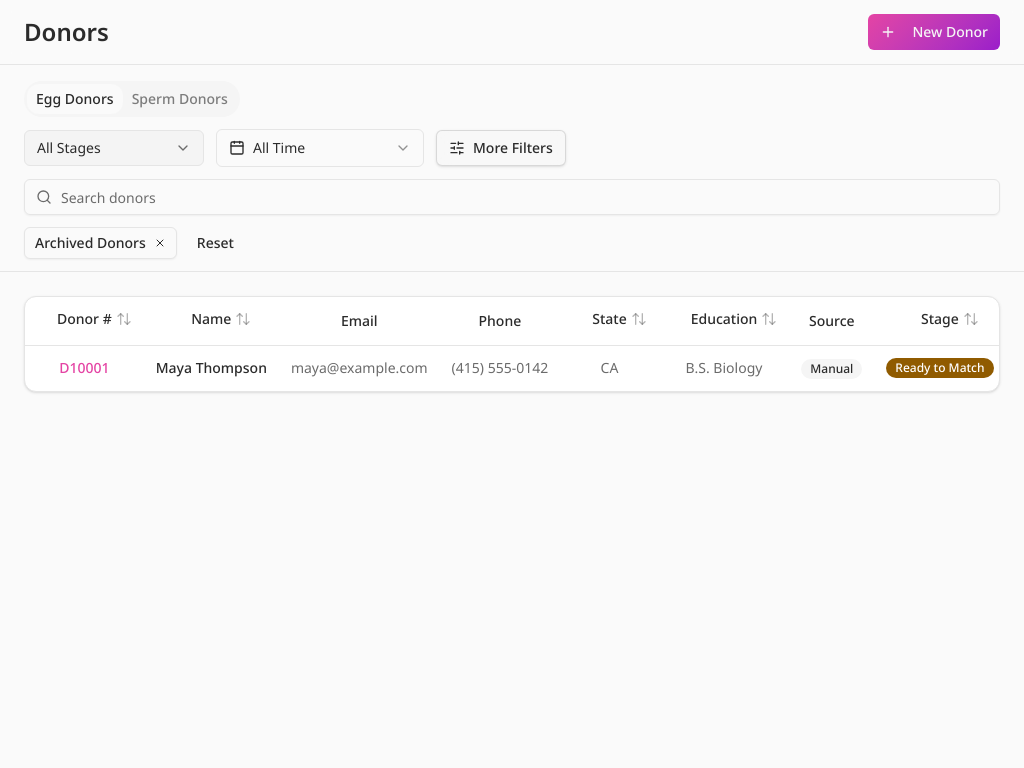
DonorsPage › loads archived donors from a URL-backed record-status filter in More Filters
Expected: the button with aria-label "Remove filter: Archived Donors" is shown, [24,227,177,259]
Click the button "More Filters" at (501, 148), box [436,130,566,166]
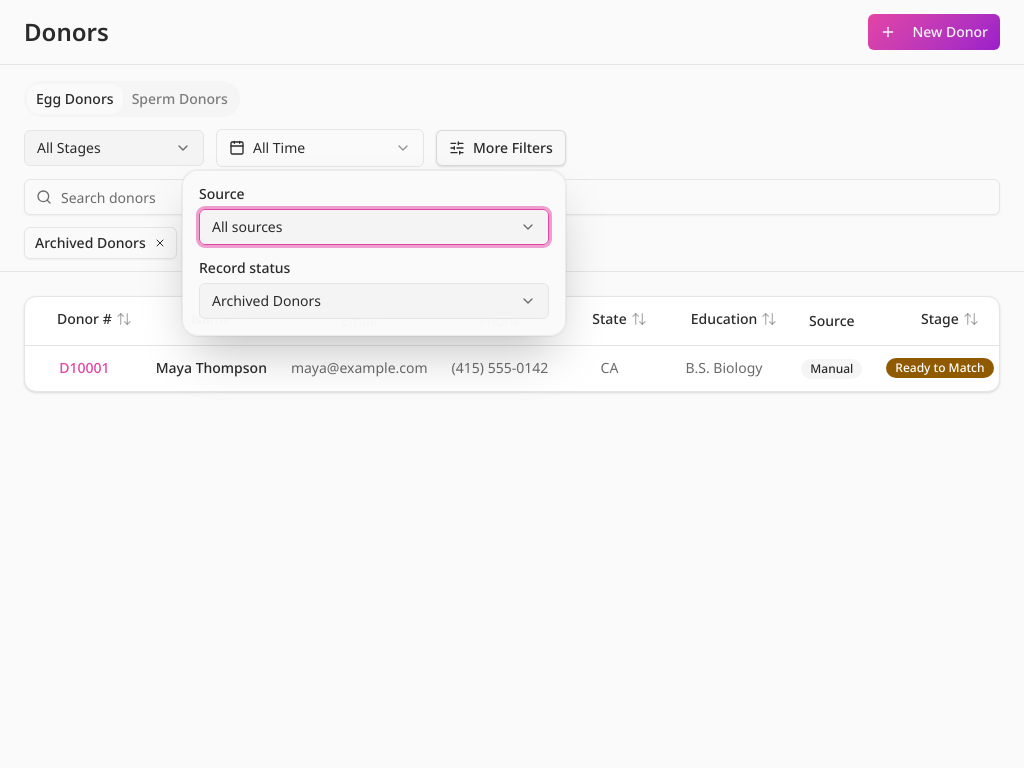
Expected: the dropdown named "Filter by record status" shows "Archived Donors", [199,283,549,319]
